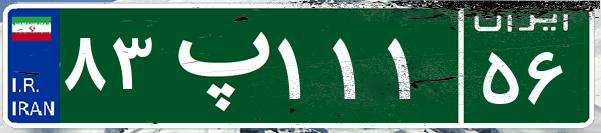1: (385, 28, 445, 110), (273, 28, 330, 110), (330, 28, 385, 110)
3: (110, 28, 158, 105)
5: (475, 38, 525, 113)
6: (525, 38, 570, 115)
8: (57, 26, 110, 107)
پ: (158, 15, 273, 115)
